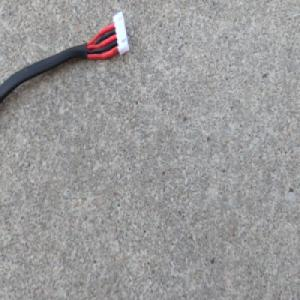Wire: (0, 6, 129, 108)
